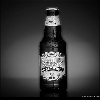beer: (33, 5, 73, 96)
